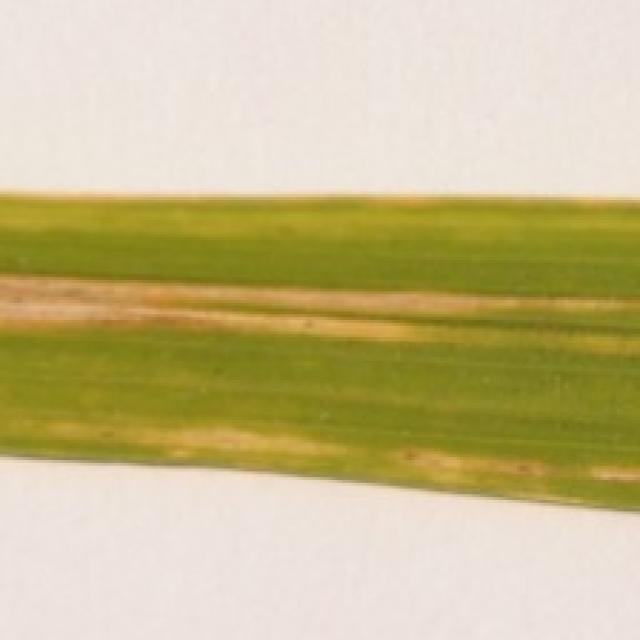Rice___Bacterial_Leaf_Blight: (0, 189, 637, 518)
